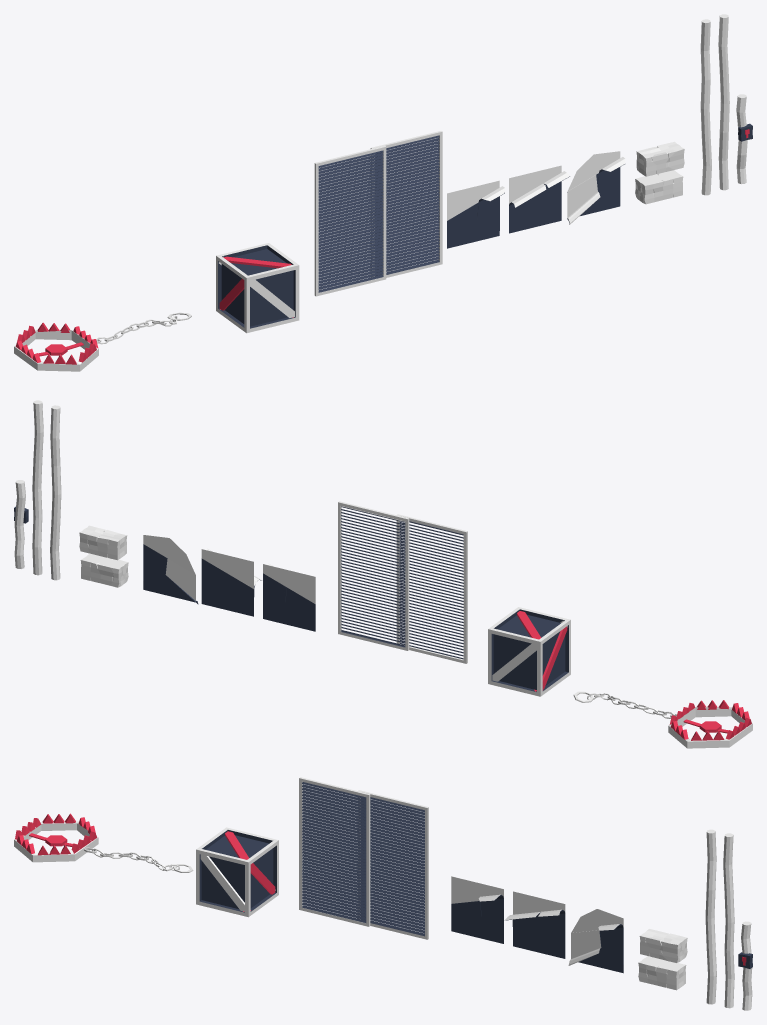
Rendered from NoCtraps.fbx.
3 renders of one model, top to bottom at view 1: azimuth 30°, elevation 25°; view 2: azimuth 150°, elevation 25°; view 3: azimuth 330°, elevation 25°, orthographic.
Visible parts, largest first — view 1: ClosetDoor2, ClosetDoor1, Box, Beartrap, WallpaperTear2, WallpaperTear1, WallpaperTear3, Bar2, Bar1, Brick2, Brick1, BarLock; view 2: ClosetDoor1, ClosetDoor2, Box, Beartrap, WallpaperTear2, WallpaperTear1, WallpaperTear3, Bar2, Bar1, Brick2, Brick1, BarLock; view 3: ClosetDoor2, ClosetDoor1, Box, Beartrap, WallpaperTear2, WallpaperTear1, WallpaperTear3, Bar2, Bar1, Brick2, Brick1, BarLock.
Part boxes in pixels (bbox=[...]): ClosetDoor2: bbox=[314, 146, 386, 296]; ClosetDoor1: bbox=[370, 131, 442, 277]; Box: bbox=[216, 243, 299, 333]; Beartrap: bbox=[14, 312, 191, 371]; WallpaperTear2: bbox=[509, 165, 570, 233]; WallpaperTear1: bbox=[447, 180, 504, 248]; WallpaperTear3: bbox=[567, 151, 625, 224]; Bar2: bbox=[718, 14, 729, 190]; Bar1: bbox=[700, 19, 711, 195]; Brick2: bbox=[636, 141, 684, 176]; Brick1: bbox=[635, 170, 683, 204]; BarLock: bbox=[736, 94, 752, 184]; ClosetDoor1: bbox=[338, 501, 409, 650]; ClosetDoor2: bbox=[396, 514, 467, 663]; Box: bbox=[488, 607, 570, 696]; Beartrap: bbox=[573, 691, 752, 748]; WallpaperTear2: bbox=[201, 549, 261, 616]; WallpaperTear1: bbox=[263, 563, 315, 631]; WallpaperTear3: bbox=[143, 534, 198, 604]; Bar2: bbox=[32, 400, 43, 575]; Bar1: bbox=[50, 405, 61, 580]; Brick2: bbox=[79, 525, 127, 560]; Brick1: bbox=[80, 553, 128, 587]; BarLock: bbox=[14, 480, 28, 568]; ClosetDoor2: bbox=[299, 777, 370, 926]; ClosetDoor1: bbox=[358, 790, 428, 939]; Box: bbox=[196, 827, 278, 917]; Beartrap: bbox=[14, 813, 193, 872]; WallpaperTear2: bbox=[504, 891, 565, 958]; WallpaperTear1: bbox=[451, 876, 503, 943]; WallpaperTear3: bbox=[568, 909, 623, 973]; Bar2: bbox=[723, 833, 734, 1008]; Bar1: bbox=[705, 829, 716, 1004]; Brick2: bbox=[639, 929, 687, 962]; Brick1: bbox=[638, 956, 686, 990]; BarLock: bbox=[738, 921, 752, 1010].
Bounding box in the file's own units: 27.58 × 6.26 × 3.16.
